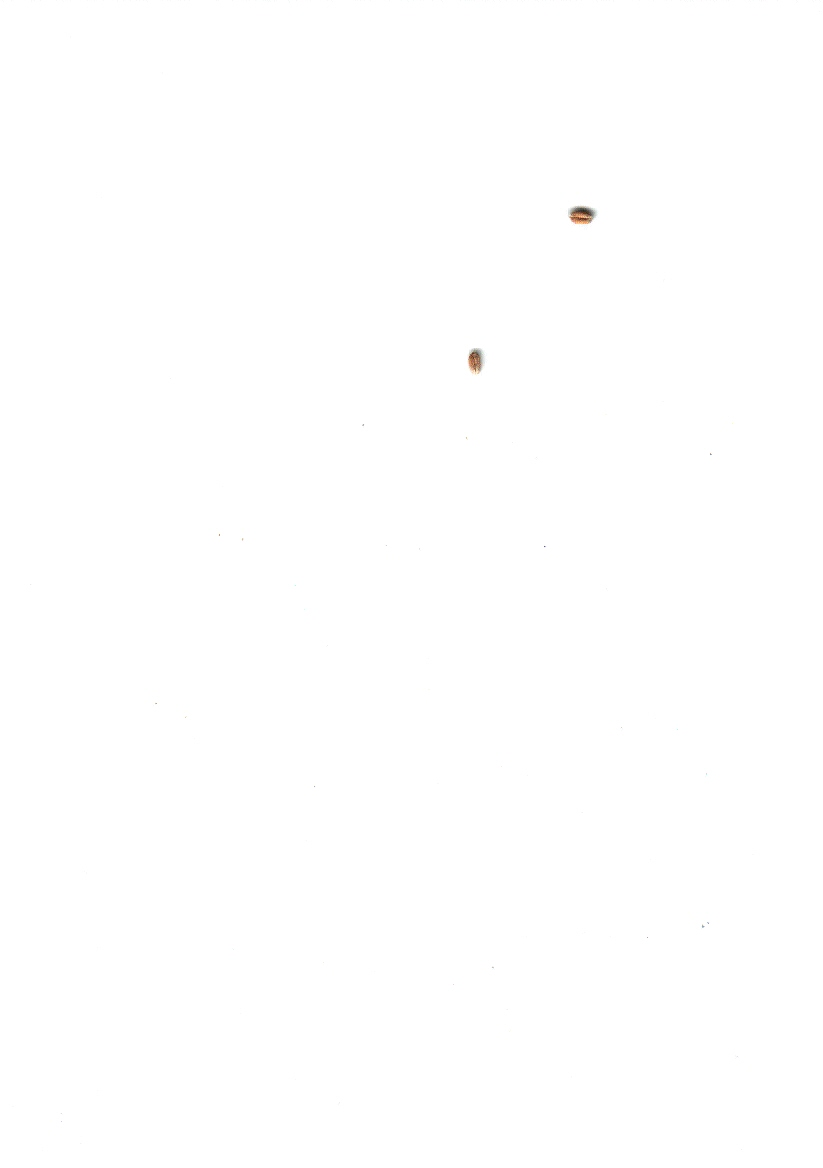grains: (563, 190, 605, 241), (459, 340, 494, 388)
